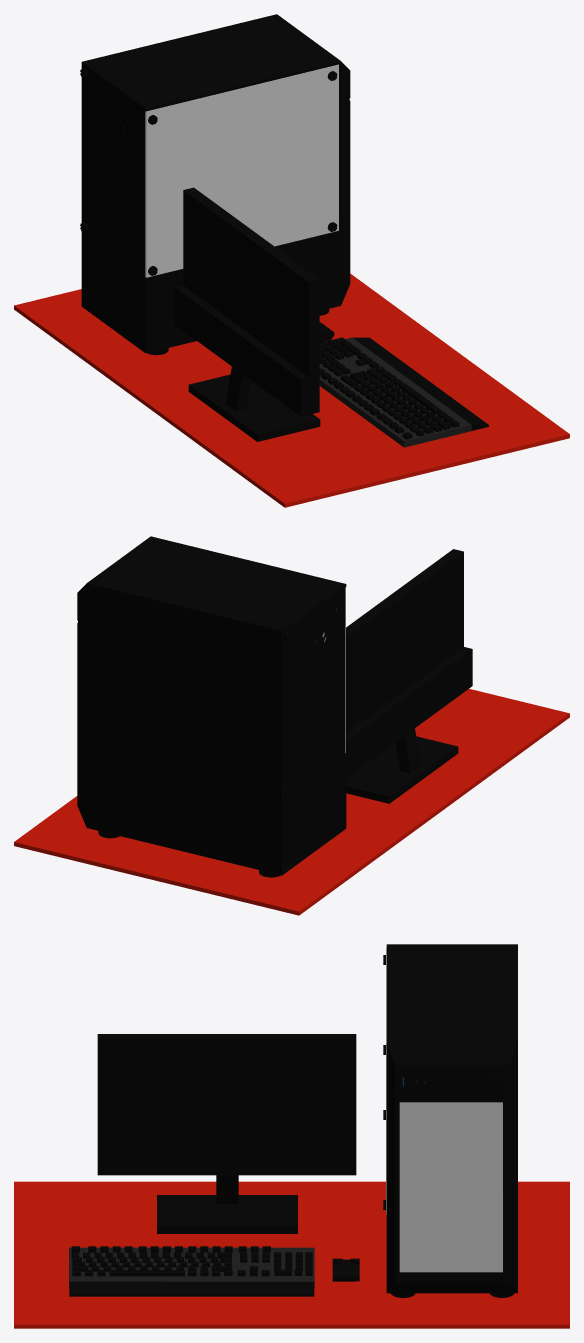
The model's file is CHPc.obj.
3 renders of one model, top to bottom at view 1: azimuth 30°, elevation 25°; view 2: azimuth 150°, elevation 25°; view 3: azimuth 270°, elevation 25°, orthographic. The views are drawn at different scales.
Parts seen in each view (by area): view 1: Cube.068_Cube.079, Cube.001_Cube.006, Cube_Cube.002, Cube.024_Cube.013, Cube.004_Cube.009, Cube.026_Cube.030, Cube.028_Cube.032, Cube.069_Cube.081, Cube.025_Cube.016, Cube.041; view 2: Cube_Cube.002, Cube.068_Cube.079, Cube.024_Cube.013, Cube.004_Cube.009, Cube.026_Cube.030, Cube.025_Cube.016; view 3: Cube.068_Cube.079, Cube.027_Cube.031, Cube_Cube.002, Cube.003_Cube.008, Cube.024_Cube.013, Cube.026_Cube.030, Cube.028_Cube.032, Cube.069_Cube.081, Cube.025_Cube.016, Cube.064_Cube.068, Cube.041, Cube.043 (+2 smaller).
Part boxes in pixels (x1,y1,x2,y2): Cube.068_Cube.079: (14,273,569,507); Cube.001_Cube.006: (145,64,338,277); Cube_Cube.002: (81,14,350,353); Cube.024_Cube.013: (174,187,319,416); Cube.004_Cube.009: (81,64,144,278); Cube.026_Cube.030: (188,374,320,441); Cube.028_Cube.032: (319,337,471,447); Cube.069_Cube.081: (353,337,488,430); Cube.025_Cube.016: (225,365,251,411); Cube.041: (349,381,424,436); Cube_Cube.002: (77,536,346,875); Cube.068_Cube.079: (14,689,569,915); Cube.024_Cube.013: (346,549,472,777); Cube.004_Cube.009: (282,586,345,800); Cube.026_Cube.030: (346,736,458,803); Cube.025_Cube.016: (395,727,421,773); Cube.068_Cube.079: (14,1181,569,1328); Cube.027_Cube.031: (104,1043,350,1170); Cube_Cube.002: (386,944,517,1293); Cube.003_Cube.008: (399,1102,502,1272); Cube.024_Cube.013: (97,1034,356,1175); Cube.026_Cube.030: (157,1195,297,1233); Cube.028_Cube.032: (69,1247,314,1287); Cube.069_Cube.081: (69,1281,314,1296); Cube.025_Cube.016: (216,1175,238,1203); Cube.064_Cube.068: (332,1258,359,1281); Cube.041: (71,1252,215,1258); Cube.043: (88,1261,221,1267).
Bounding box in the file's own units: 3.59 × 3.08 × 5.91.
